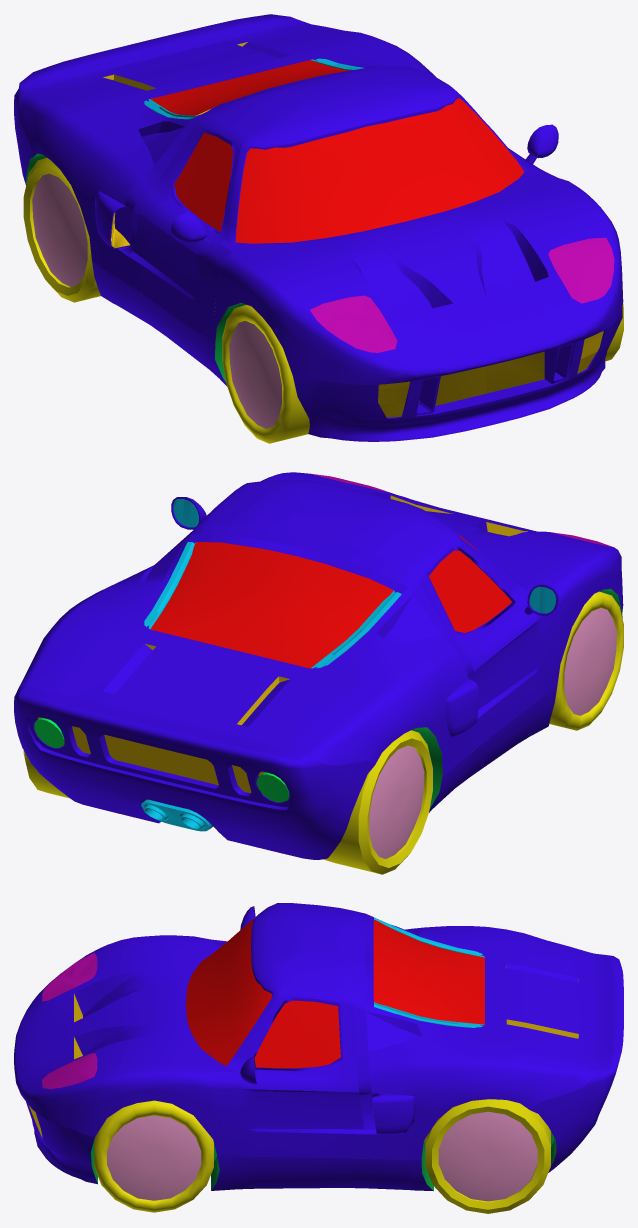
Rendered from Car05_ColorCoded.fbx.
The picture shows the model from 3 angles, top to bottom: view 1: azimuth 30°, elevation 25°; view 2: azimuth 150°, elevation 25°; view 3: azimuth 270°, elevation 25°; orthographic projection. The views are drawn at different scales.
Parts seen in each view (by area): view 1: carBody, tireFrontR, tireBackR; view 2: carBody, tireBackR, tireFrontR; view 3: carBody, tireBackL, tireFrontL.
Boxes of the visible parts, x1,y1,x2,y2 form: carBody: [14, 14, 623, 441]; tireFrontR: [222, 305, 309, 443]; tireBackR: [23, 157, 100, 302]; carBody: [14, 472, 623, 859]; tireBackR: [324, 730, 432, 874]; tireFrontR: [549, 591, 623, 730]; carBody: [14, 903, 623, 1191]; tireBackL: [425, 1099, 550, 1213]; tireFrontL: [94, 1100, 213, 1212].
Size of the model in its own units: 71.5 by 114 by 42.87.
